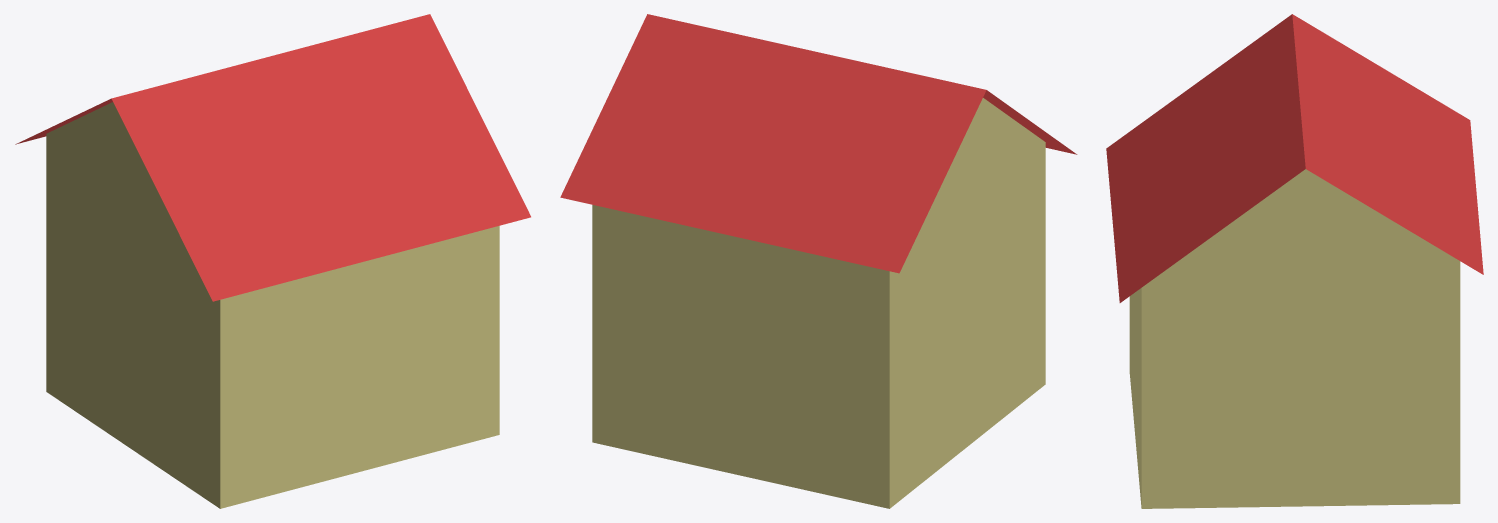
3 renders of one model, left to right at view 1: azimuth 30°, elevation 25°; view 2: azimuth 150°, elevation 25°; view 3: azimuth 270°, elevation 25°, orthographic. The views are drawn at different scales.
Bounding box in the file's own units: 12.59 × 12.5 × 12.68.
